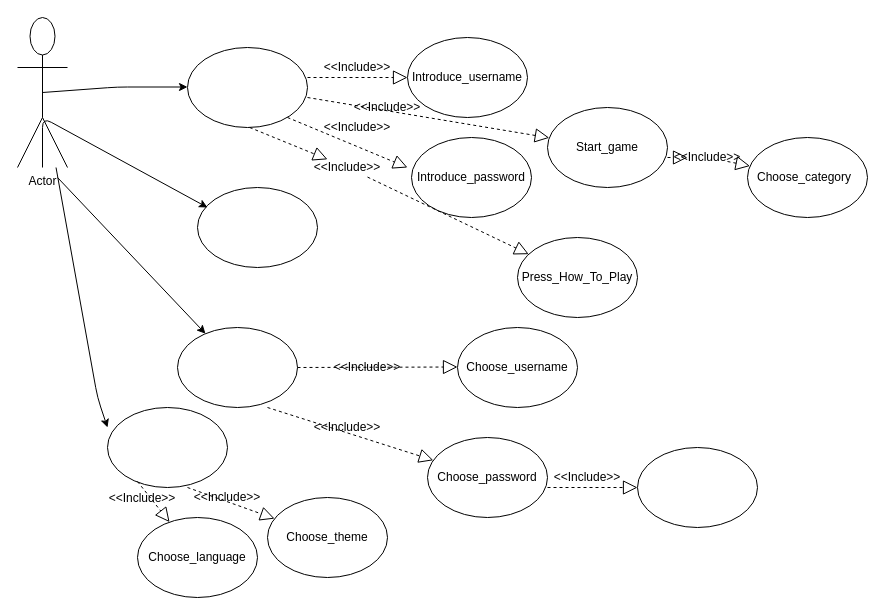
Some shapes in this 885 by 615 pixel diagram are drawn without their labels. The shapes that lost their labels are listed below. From the top down, each one's centre as x and y in pixels, then its label:
At point 247,87: "Log in".
At point 257,227: "Log out".
At point 237,367: "Create Account".
At point 167,447: "Access_settings".
At point 697,487: "Confirm_password".
